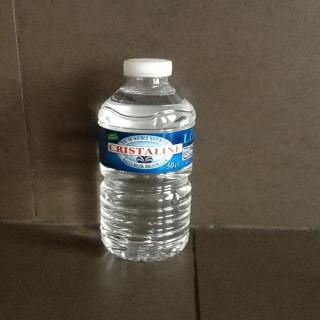Anorganik: (90, 52, 202, 264)
